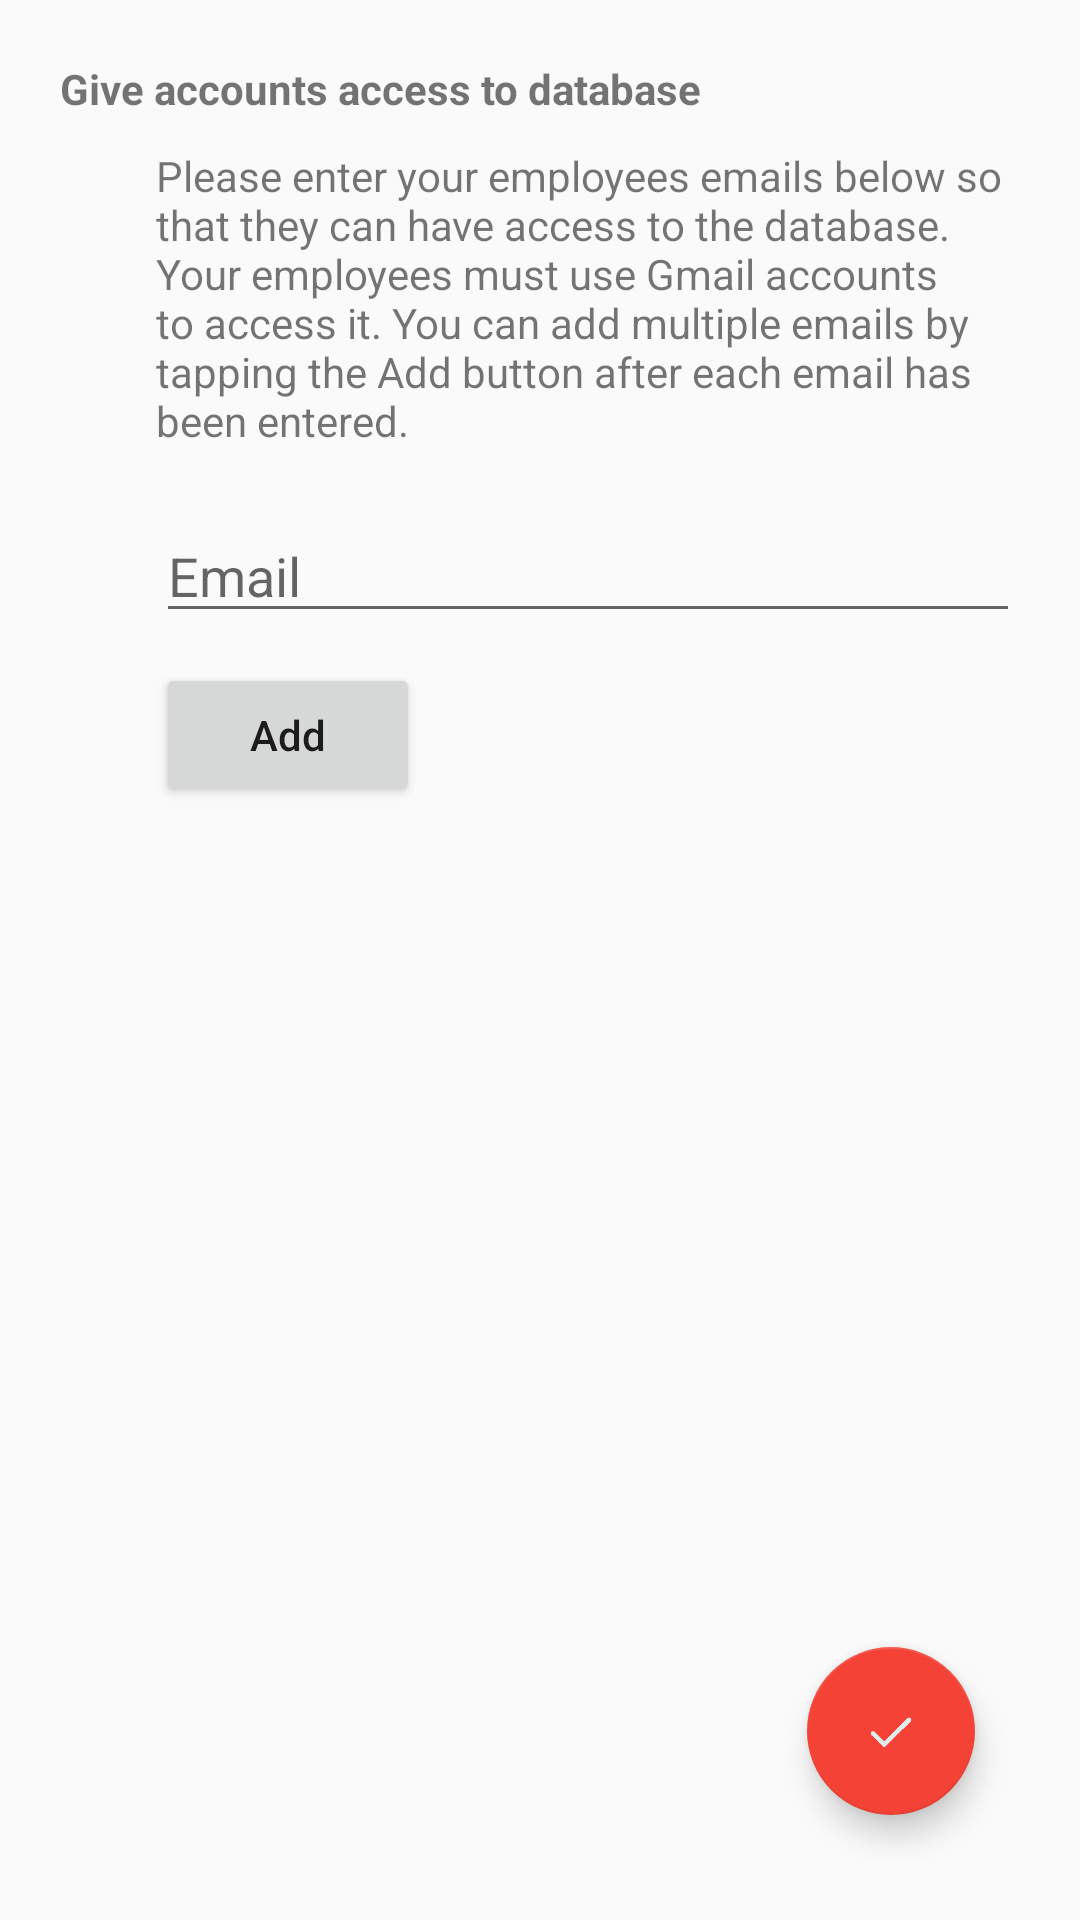

Locate icon controls on the screen. Image size 1080px×1920px, boxes as (x1=x1, y1=y1, x2=x2, y2=y2).
check mark: (x1=807, y1=1647, x2=975, y2=1815)
